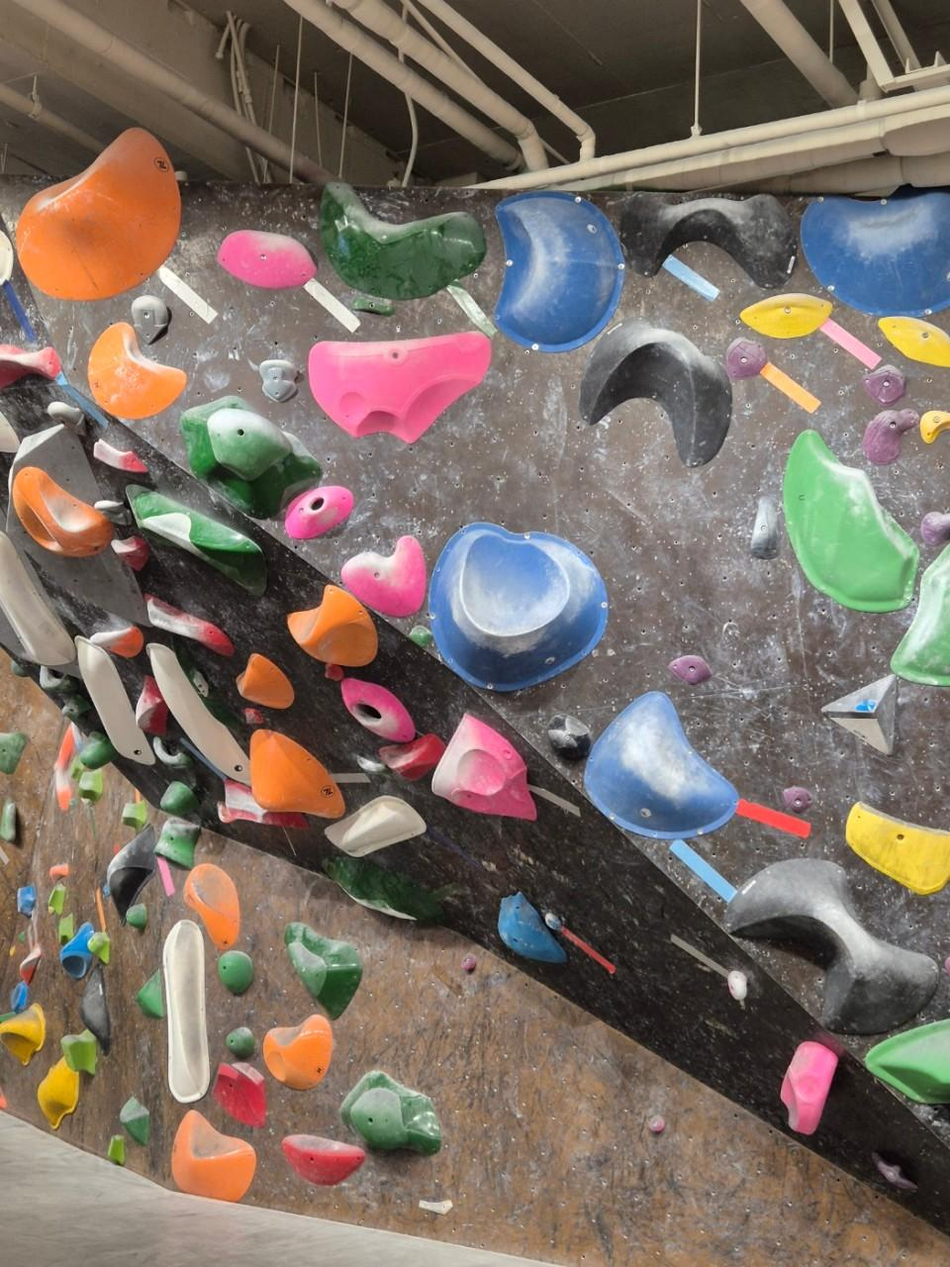hold: (726, 859, 939, 1034), (430, 524, 607, 692), (18, 129, 180, 299), (785, 429, 919, 612), (584, 689, 738, 841), (580, 319, 731, 465), (493, 192, 624, 352), (309, 332, 491, 443), (319, 182, 486, 296), (801, 192, 949, 317), (619, 189, 797, 289), (180, 397, 321, 517), (126, 485, 263, 591), (148, 643, 249, 783), (432, 714, 535, 819), (0, 532, 77, 667), (87, 320, 188, 419), (77, 636, 154, 764), (846, 801, 949, 893), (13, 466, 115, 556), (163, 921, 210, 1103), (340, 1071, 439, 1155), (891, 544, 949, 686), (250, 730, 343, 818), (324, 854, 442, 923), (171, 1110, 255, 1202), (864, 1019, 949, 1104), (285, 923, 361, 1018), (288, 585, 377, 666), (341, 536, 426, 617), (821, 674, 897, 754), (326, 796, 426, 856), (218, 230, 317, 287), (264, 1013, 332, 1090), (146, 595, 232, 655), (781, 1041, 837, 1133), (184, 862, 239, 949), (179, 654, 238, 735), (107, 825, 157, 920), (341, 678, 415, 742), (498, 892, 565, 961), (219, 780, 307, 828), (282, 1135, 365, 1185), (740, 294, 831, 339), (284, 486, 353, 538), (879, 318, 949, 366), (862, 408, 918, 465), (213, 1063, 264, 1125), (237, 654, 294, 709), (378, 733, 444, 779), (39, 1057, 78, 1127), (0, 343, 60, 388), (0, 1003, 43, 1064), (80, 965, 110, 1052), (54, 722, 81, 810), (155, 817, 199, 868), (548, 714, 593, 760), (749, 496, 780, 560), (132, 295, 171, 345), (88, 624, 144, 658), (59, 925, 94, 979), (725, 338, 769, 379), (259, 359, 300, 403), (871, 1152, 917, 1191), (94, 438, 146, 472), (136, 678, 167, 735), (863, 365, 904, 408), (61, 1029, 99, 1074), (218, 950, 252, 994), (78, 732, 117, 769), (111, 534, 150, 571), (160, 781, 199, 817), (47, 401, 85, 437), (152, 736, 191, 771), (119, 1097, 146, 1145), (669, 655, 712, 685), (39, 666, 77, 699), (135, 971, 161, 1018), (93, 499, 133, 529), (0, 732, 26, 774), (920, 512, 949, 547), (919, 411, 949, 443), (226, 1027, 254, 1059), (349, 295, 393, 314), (20, 944, 41, 983), (783, 786, 812, 814), (79, 770, 103, 802), (0, 800, 17, 843), (61, 695, 89, 721), (122, 800, 147, 829), (0, 230, 13, 285), (88, 930, 109, 964), (0, 231, 13, 285), (727, 970, 747, 1001), (357, 755, 385, 777), (17, 885, 35, 917), (408, 625, 431, 648), (107, 1134, 124, 1165), (11, 981, 28, 1012), (126, 904, 147, 928), (419, 1200, 452, 1215), (57, 915, 73, 945), (48, 886, 64, 915), (72, 758, 86, 781), (49, 863, 69, 879), (243, 709, 262, 725), (326, 665, 343, 682), (461, 953, 477, 971), (12, 659, 30, 675), (545, 912, 560, 930), (649, 1117, 665, 1133), (856, 700, 878, 711), (17, 932, 25, 942), (9, 945, 16, 955)
volume: (6, 423, 153, 627)
